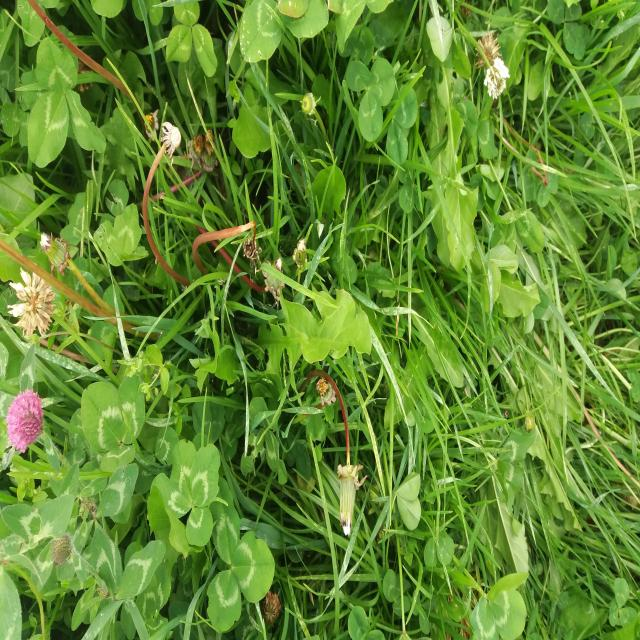Four Leaf Clover: (150, 439, 221, 547)
